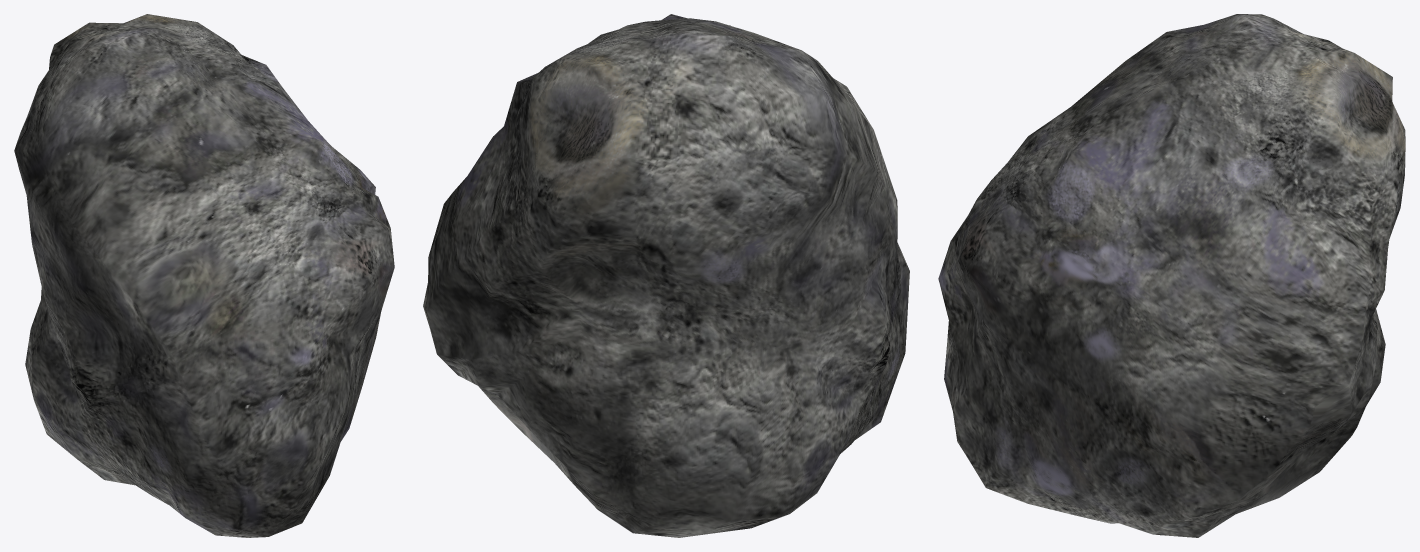
Rendered from asteroid_bellamy.fbx.
The picture shows the model from 3 angles, left to right: view 1: azimuth 30°, elevation 25°; view 2: azimuth 150°, elevation 25°; view 3: azimuth 270°, elevation 25°; orthographic projection. The views are drawn at different scales.
Visible parts, largest first — view 1: 01-asteroid-B; view 2: 01-asteroid-B; view 3: 01-asteroid-B.
Part boxes in pixels (box(x1,y1,x2,y2)): 01-asteroid-B: box(14, 14, 394, 537); 01-asteroid-B: box(423, 14, 909, 537); 01-asteroid-B: box(938, 14, 1405, 537).
Bounding box in the file's own units: 32228 × 41328 × 36874.
